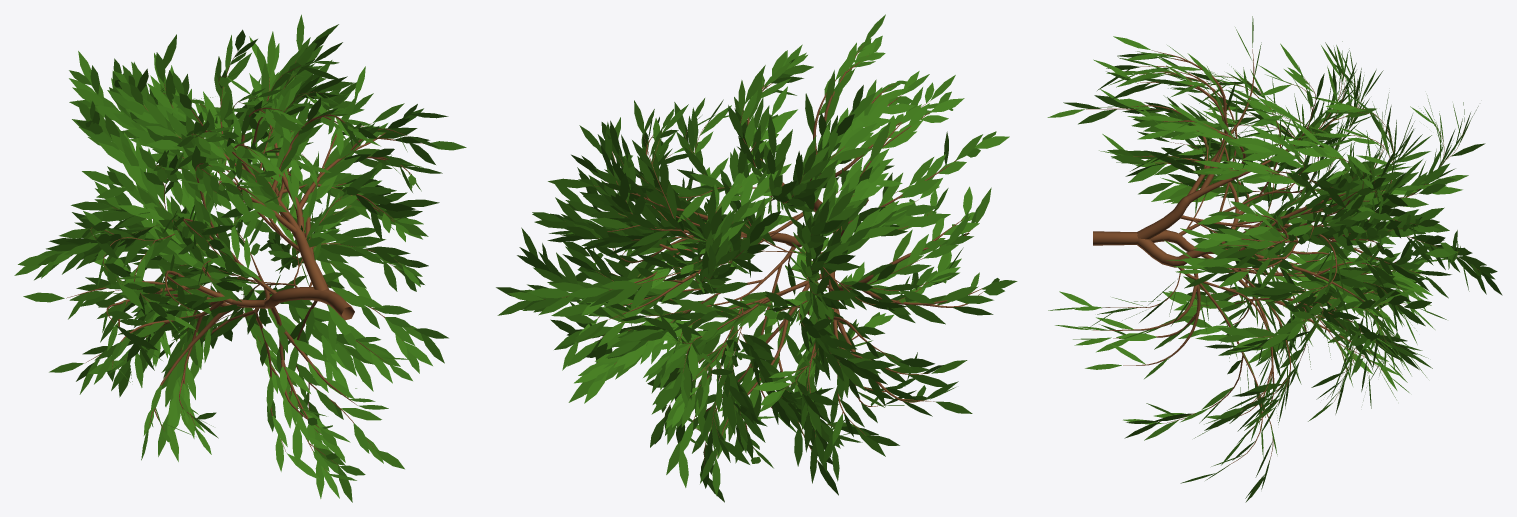
Rendered from TreeJungle1.fbx.
3 renders of one model, left to right at view 1: azimuth 30°, elevation 25°; view 2: azimuth 150°, elevation 25°; view 3: azimuth 270°, elevation 25°, orthographic. The views are drawn at different scales.
Visible parts, largest first — view 1: leaves; view 2: leaves; view 3: leaves.
Boxes of the visible parts, x1,y1,x2,y2 form: leaves: (14, 14, 466, 502); leaves: (496, 14, 1017, 502); leaves: (1047, 16, 1502, 502).
Size of the model in its own units: 588 by 666 by 636.
